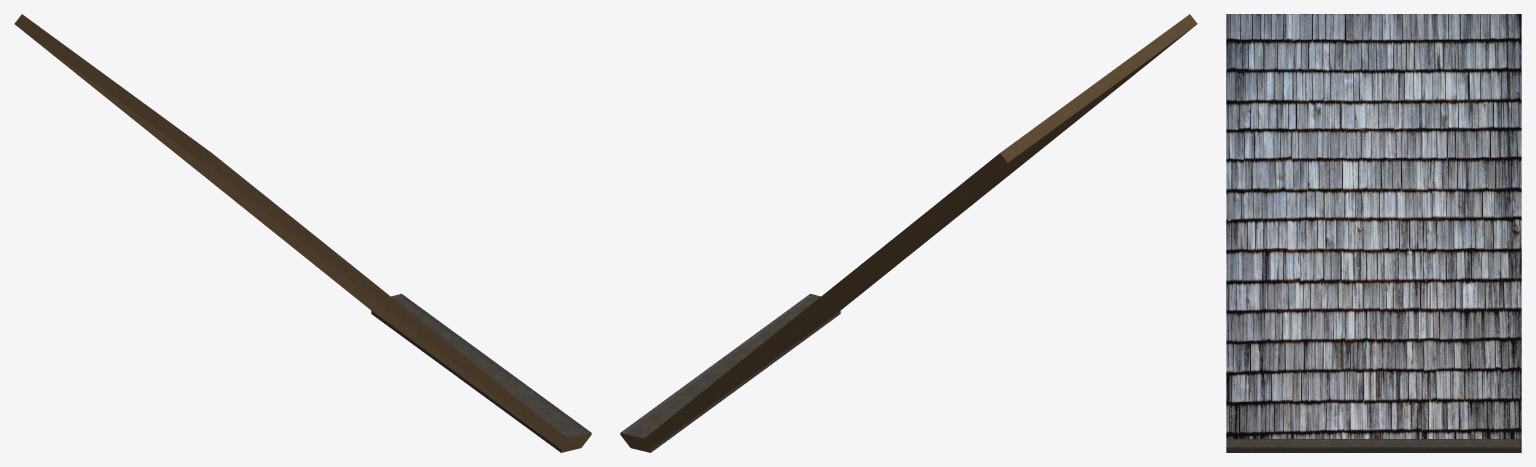
Rendered from 45RoofWGutter.fbx.
3 renders of one model, left to right at view 1: azimuth 30°, elevation 25°; view 2: azimuth 150°, elevation 25°; view 3: azimuth 270°, elevation 25°, orthographic. The views are drawn at different scales.
Parts seen in each view (by area): view 1: 45RoofwGutter; view 2: 45RoofwGutter; view 3: 45RoofwGutter.
Boxes of the visible parts, x1,y1,x2,y2 form: 45RoofwGutter: (14,14,591,452); 45RoofwGutter: (620,14,1197,452); 45RoofwGutter: (1226,14,1521,452).
Bounding box in the file's own units: 373 × 354 × 316.
